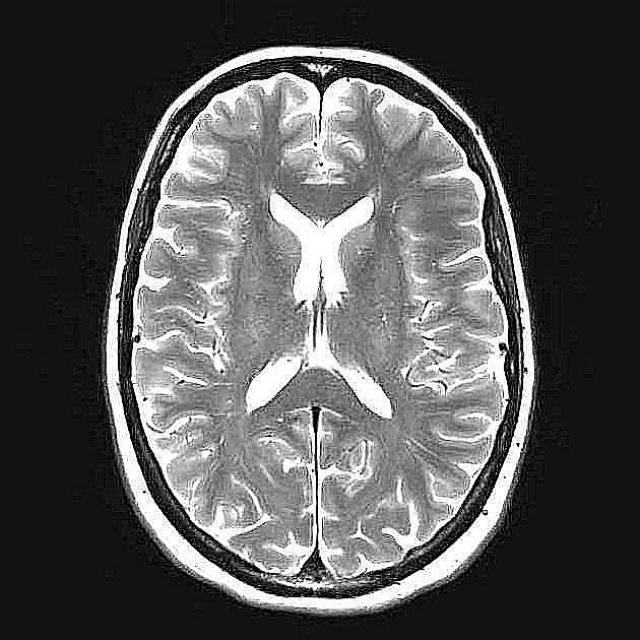notumor: (104, 48, 535, 623)
